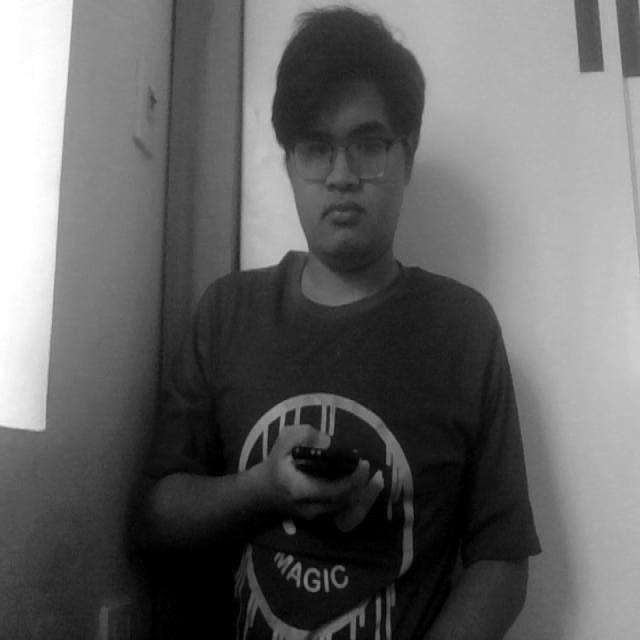phone: (282, 413, 371, 518)
